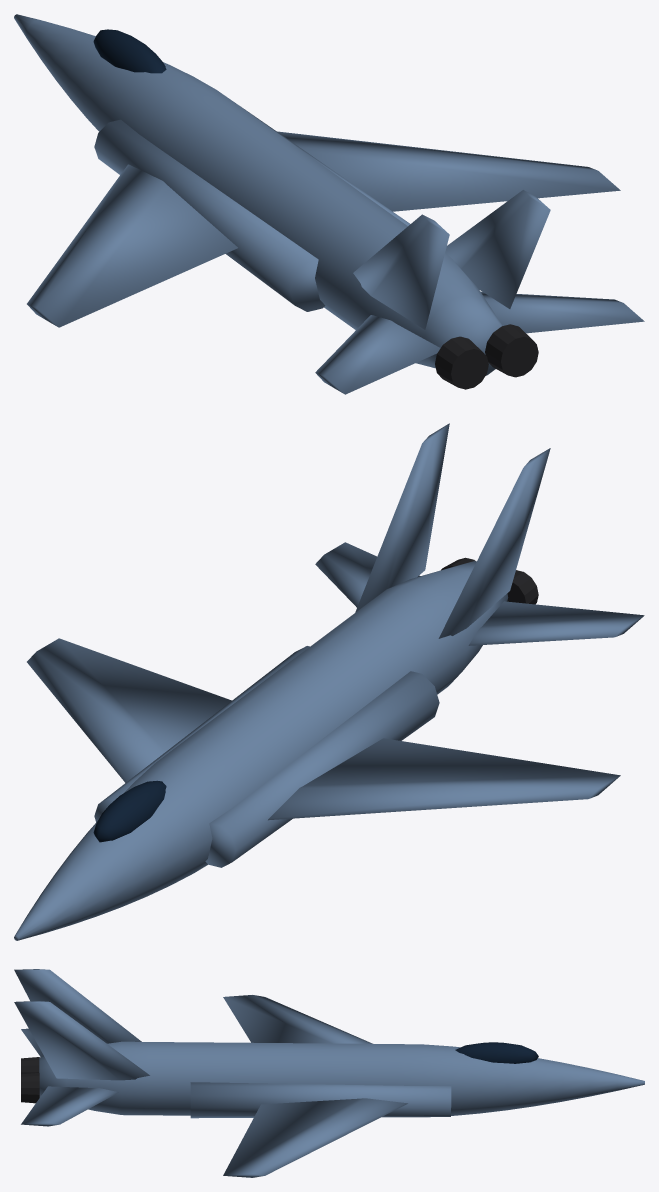
3 views of the same model, one above another, from view 1: azimuth 30°, elevation 25°; view 2: azimuth 150°, elevation 25°; view 3: azimuth 270°, elevation 25° (orthographic). The views are drawn at different scales.
Parts seen in each view (by area): view 1: Body, Detail, Canopy; view 2: Body, Canopy, Detail; view 3: Body, Canopy, Detail.
Boxes of the visible parts, x1=… form: Body: x1=14, y1=14, x2=644, y2=394; Detail: x1=435, y1=324, x2=538, y2=389; Canopy: x1=93, y1=29, x2=166, y2=73; Body: x1=14, y1=423, x2=644, y2=940; Canopy: x1=93, y1=780, x2=166, y2=842; Detail: x1=441, y1=557, x2=538, y2=604; Body: x1=14, y1=969, x2=644, y2=1177; Canopy: x1=455, y1=1042, x2=538, y2=1063; Detail: x1=21, y1=1057, x2=39, y2=1103.
Size of the model in its own units: 15.3 by 5.12 by 22.81.
